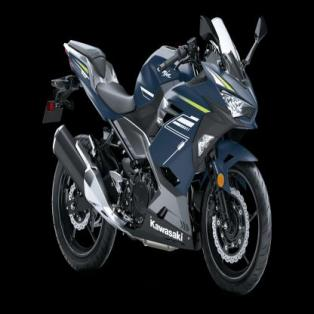Motocicleta: (45, 13, 274, 298)
